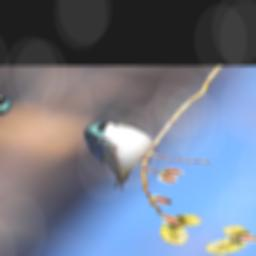Swallow: (44, 114, 174, 192)
